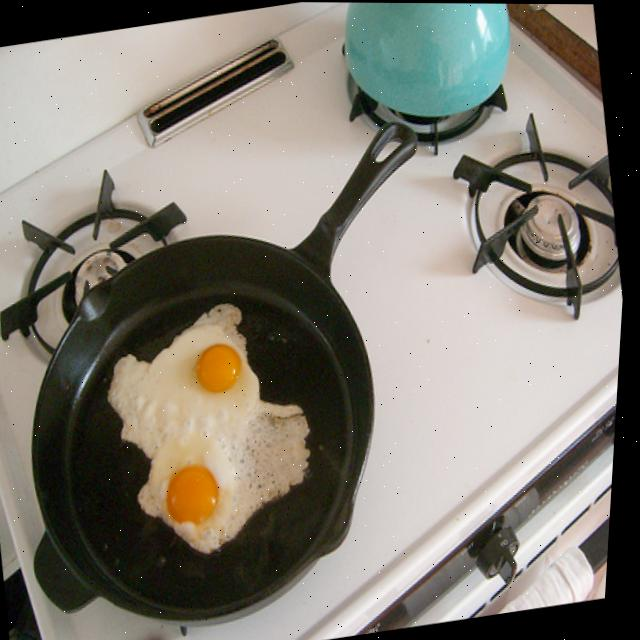鸡蛋料理: (110, 305, 323, 558)
